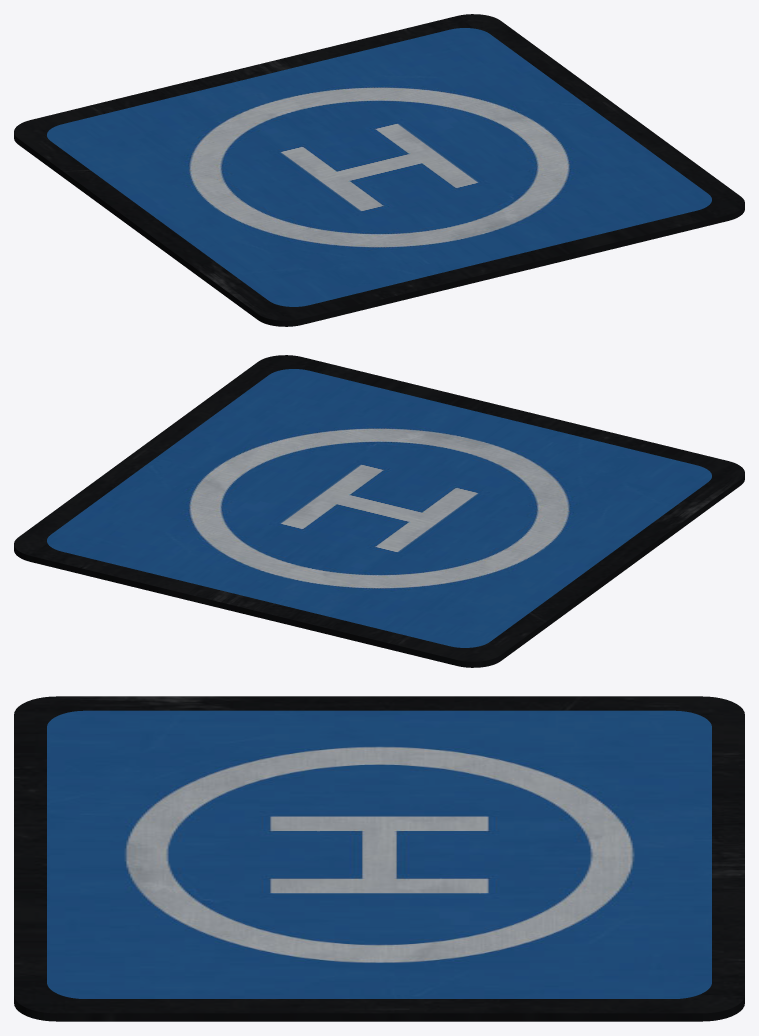
File: e_color_DronePadForCar_blue.fbx
The picture shows the model from 3 angles, top to bottom: view 1: azimuth 30°, elevation 25°; view 2: azimuth 150°, elevation 25°; view 3: azimuth 270°, elevation 25°; orthographic projection. The views are drawn at different scales.
Parts seen in each view (by area): view 1: DronePadForCar_blue; view 2: DronePadForCar_blue; view 3: DronePadForCar_blue.
Boxes of the visible parts, x1,y1,x2,y2 form: DronePadForCar_blue: (14,14,744,326); DronePadForCar_blue: (14,355,744,667); DronePadForCar_blue: (14,696,744,1021).
Size of the model in its own units: 151 by 1.81 by 147.
